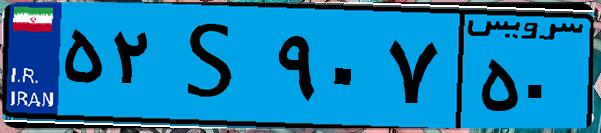0: (330, 28, 385, 110), (525, 38, 570, 115)
2: (110, 28, 158, 98)
5: (57, 26, 110, 100), (475, 38, 525, 113)
7: (385, 28, 445, 110)
9: (270, 28, 330, 110)
S: (158, 12, 270, 120)
